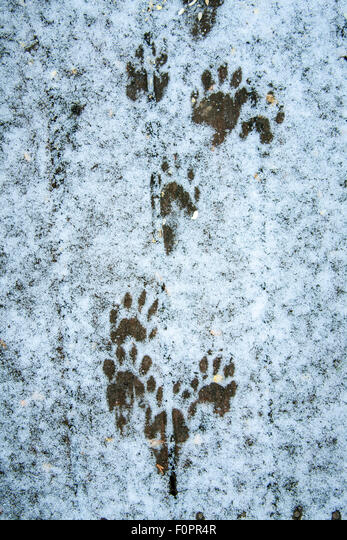raccoon: (118, 378, 209, 475), (82, 347, 171, 427), (145, 153, 208, 255), (91, 280, 182, 347), (180, 357, 249, 422)
